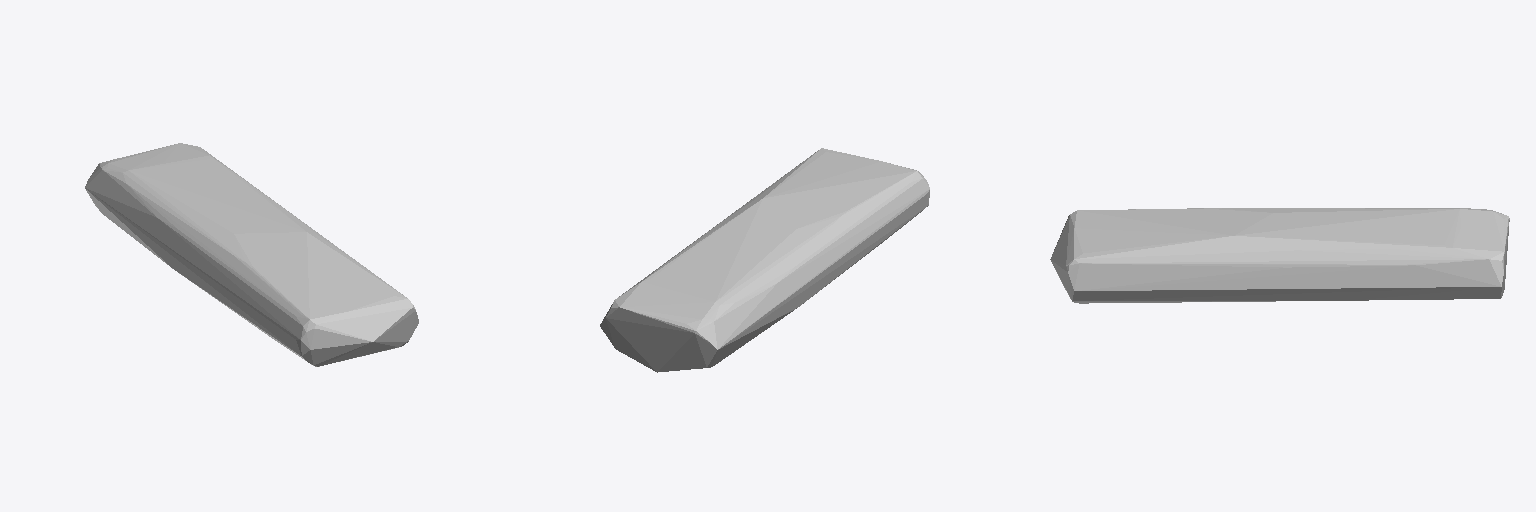
File: remote_collision.obj
3 views of the same model, side by side, from view 1: azimuth 30°, elevation 25°; view 2: azimuth 150°, elevation 25°; view 3: azimuth 270°, elevation 25° (orthographic).
Bounding box in the file's own units: 0.0254 × 0.0136 × 0.0834.